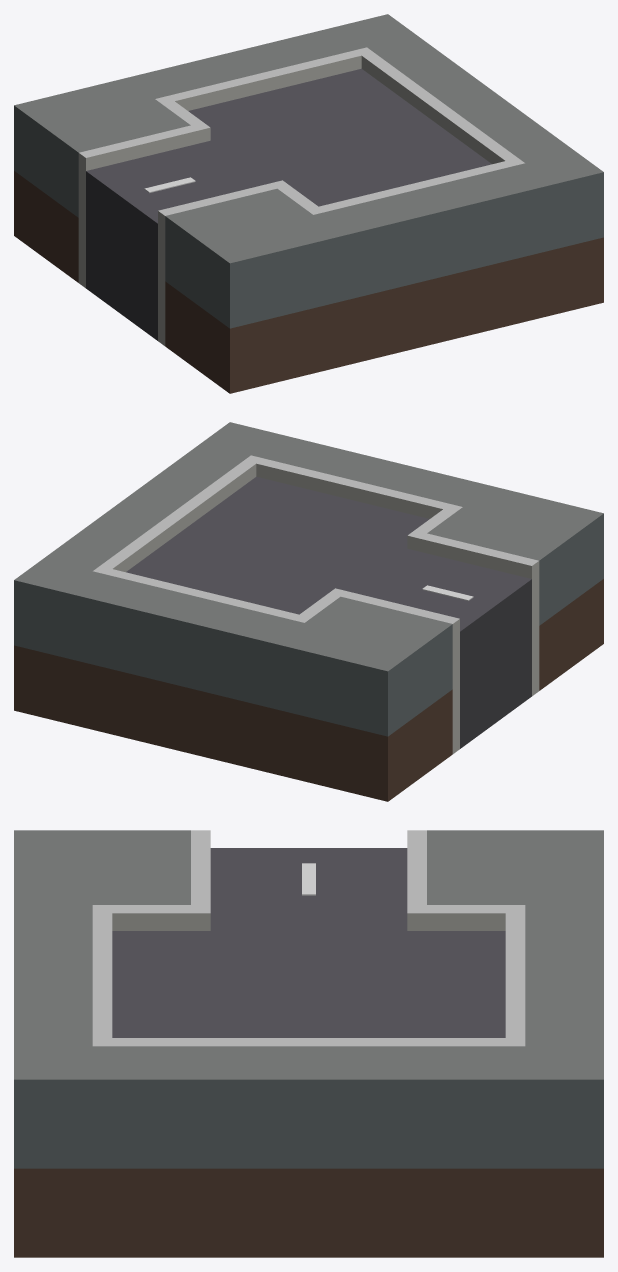
The model's file is TB_CITY_Road_L.FBX.
The picture shows the model from 3 angles, top to bottom: view 1: azimuth 30°, elevation 25°; view 2: azimuth 150°, elevation 25°; view 3: azimuth 270°, elevation 25°; orthographic projection. The views are drawn at different scales.
Parts seen in each view (by area): view 1: TB_CITY_Road_L; view 2: TB_CITY_Road_L; view 3: TB_CITY_Road_L.
Boxes of the visible parts, bbox=[...] form: TB_CITY_Road_L: bbox=[14, 14, 603, 393]; TB_CITY_Road_L: bbox=[14, 422, 603, 801]; TB_CITY_Road_L: bbox=[14, 830, 603, 1257].
Bounding box in the file's own units: 30 × 10 × 30.
